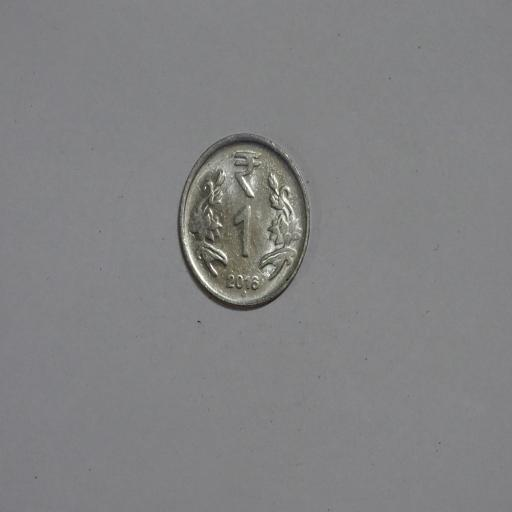rupee1: (177, 134, 310, 308)
